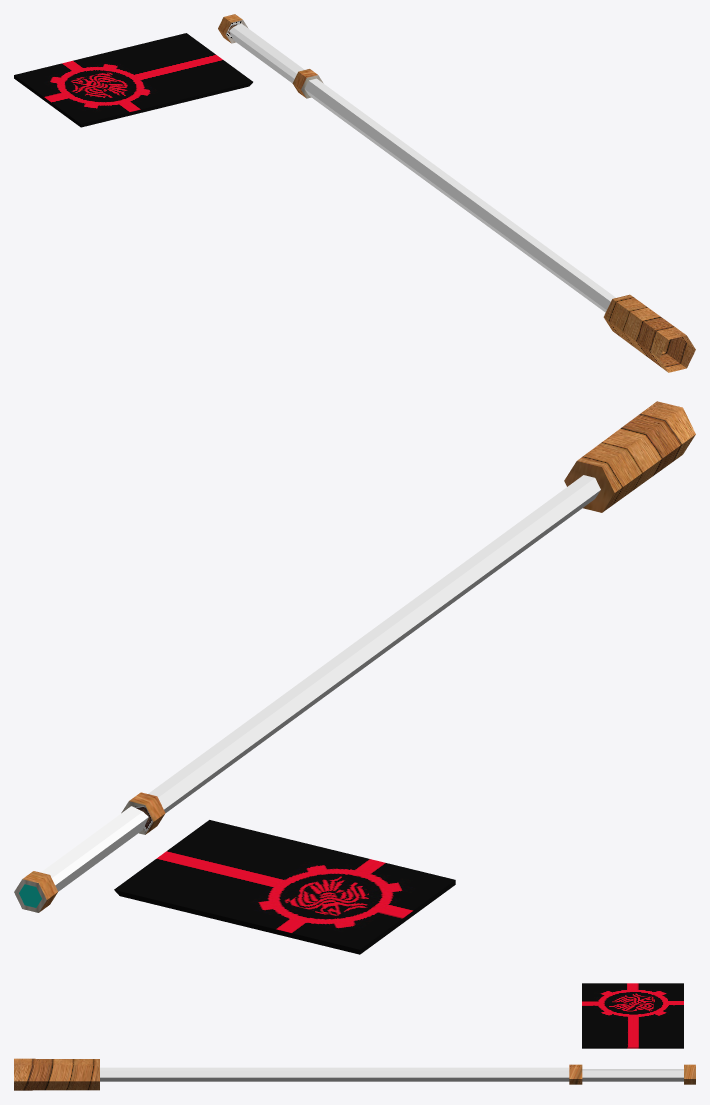
File: co viking.fbx
The picture shows the model from 3 angles, top to bottom: view 1: azimuth 30°, elevation 25°; view 2: azimuth 150°, elevation 25°; view 3: azimuth 270°, elevation 25°; orthographic projection. The views are drawn at different scales.
Parts seen in each view (by area): view 1: cot_co, la_co; view 2: cot_co, la_co; view 3: cot_co, la_co.
Part boxes in pixels (x1=…): cot_co: x1=218, y1=14, x2=695, y2=372; la_co: x1=14, y1=33, x2=252, y2=127; cot_co: x1=14, y1=401, x2=695, y2=912; la_co: x1=114, y1=820, x2=455, y2=954; cot_co: x1=14, y1=1058, x2=695, y2=1090; la_co: x1=582, y1=983, x2=683, y2=1048.
Bounding box in the file's own units: 1.76 × 0.2302 × 5.67.
Materials: 1 (1 with a texture image).
